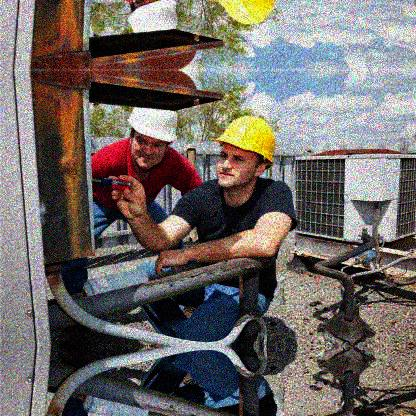helmet: (217, 113, 276, 192), (129, 107, 178, 173)
